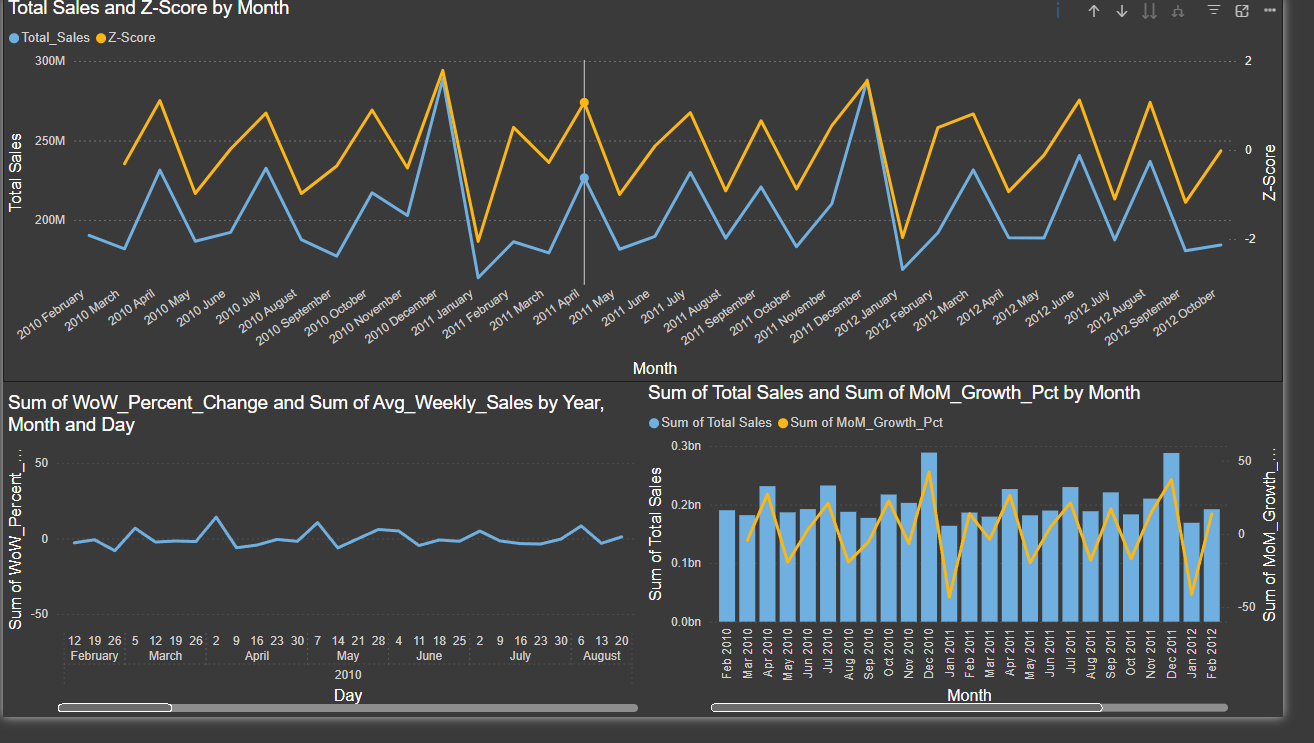

The dashboard page shown, as its layout file describes it:
{"tool":"powerbi","page":{"name":"Page 3","canvas":[1280,720],"ordinal":2},"visuals":[{"type":"lineChart","title":"Total Sales and Z-Score by Month","fields":{"Y":["Sum(monthly_zscore_anomaly.Total_Sales)"],"Y2":["Sum(monthly_zscore_anomaly.Z_Score)"],"Category":["monthly_zscore_anomaly.Month.Variation.Date Hierarchy.Year","monthly_zscore_anomaly.Month.Variation.Date Hierarchy.Month"]},"box":[0,52.1,1279.3,333.1],"z":0},{"type":"lineChart","title":"WoW Percent Change (Average Weekly Sales)","fields":{"Y":["Sum(weekly_wow_change.WoW_Change)"],"Category":["weekly_wow_change.Date.Variation.Date Hierarchy.Year"]},"box":[0,395,640.1,325],"z":1000},{"type":"lineClusteredColumnComboChart","fields":{"Y":["Sum(monthly_sales_mom.Total Sales)"],"Y2":["Sum(monthly_sales_mom.MoM_Growth_Pct)"],"Category":["monthly_sales_mom.Month "]},"box":[641,385.1,639.2,334.9],"z":2000},{"type":"textbox","title":"Timing & Trend Intelligence","box":[0,0,1279.3,52.1],"z":3000}]}

Visuals, with their boxes in screenshot pixels (x1, y1, x2, y2), scaled from the page's 1280x720 canvas onto the 1314x743 screenshot:
"Total Sales and Z-Score by Month" lineChart: box(0, 54, 1313, 398)
"WoW Percent Change (Average Weekly Sales)" lineChart: box(0, 408, 657, 742)
lineClusteredColumnComboChart - Sum(monthly_sales_mom.Total Sales) x Sum(monthly_sales_mom.MoM_Growth_Pct): box(658, 397, 1313, 742)
"Timing & Trend Intelligence" textbox: box(0, 0, 1313, 54)
